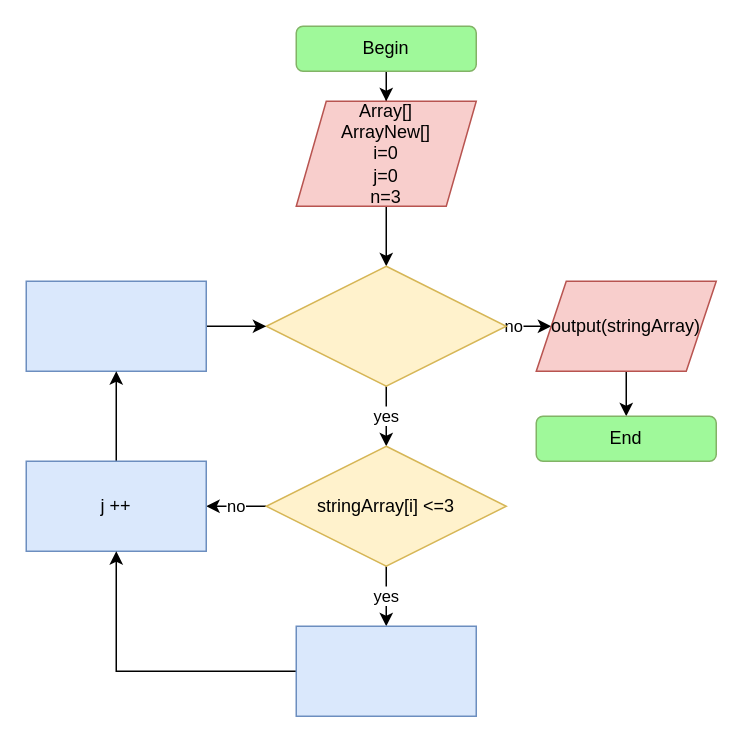
This 743x743 diagram has some shape labels left out. Each missing label, with the box of its shape:
ArrayNew[j] = Array[i]: (295, 625, 476, 716)
i ++: (25, 280, 206, 371)
i < stringArray.length: (265, 265, 506, 386)
